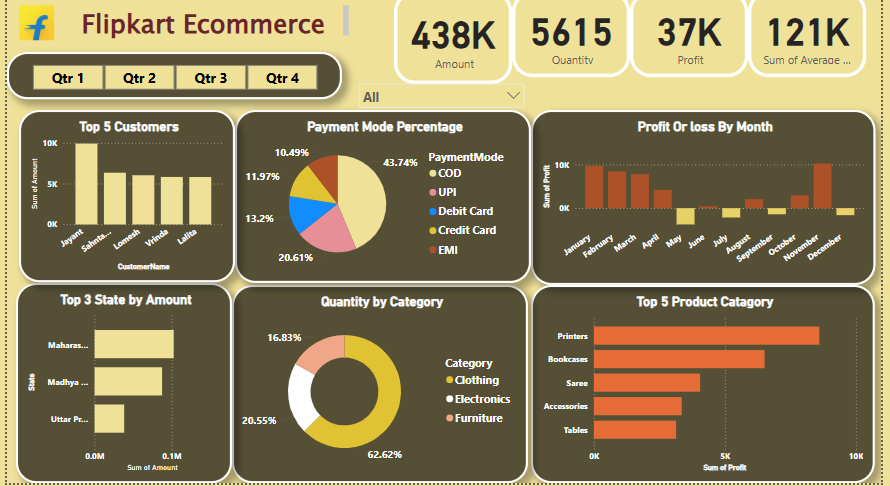

The dashboard page shown, as its layout file describes it:
{"tool":"powerbi","page":{"name":"Page 1","canvas":[1280,720],"ordinal":0},"visuals":[{"type":"textbox","box":[103.9,16.1,401,60],"z":0},{"type":"image","box":[0,16.5,87.4,61.2],"z":1000},{"type":"columnChart","title":"Profit Or loss By Month","fields":{"Category":["Orders (1).Order Date.Variation.Date Hierarchy.Month"],"Y":["Products.Profit"]},"box":[766.7,174.7,504,255.6],"z":2000},{"type":"barChart","title":"Top 5 Product Catagory","fields":{"Category":["Products.Sub-Category"],"Y":["Products.Profit"]},"box":[766.8,430.2,503.4,289.8],"z":3000},{"type":"donutChart","title":" Quantity by Category","fields":{"Category":["Products.Category"],"Y":["Products.Quantity"]},"box":[329.3,430.2,433.2,289.8],"z":4000},{"type":"pieChart","title":" Payment Mode  Percentage","fields":{"Y":["Products.Quantity"],"Category":["Products.PaymentMode"]},"box":[333.3,174.7,433.3,252.5],"z":5000},{"type":"barChart","title":"Top 3 State by Amount","fields":{"Category":["Orders (1).State"],"Y":["Products.Amount"]},"box":[12.5,427.3,316.4,293.2],"z":6000},{"type":"columnChart","title":"Top 5  Customers","fields":{"Y":["Products.Amount"],"Category":["Orders (1).CustomerName"]},"box":[17.2,174.7,316.2,251.5],"z":7000},{"type":"slicer","fields":{"Values":["Orders (1).Order Date.Variation.Date Hierarchy.Quarter"]},"box":[0,89.3,490.3,68.9],"z":8000},{"type":"card","fields":{"Values":["Products.Amount"]},"box":[566.3,0,172.7,136.1],"z":9000},{"type":"card","fields":{"Values":["Products.Quantity"]},"box":[739,0,172.7,125.9],"z":10000},{"type":"card","fields":{"Values":["Products.Profit"]},"box":[911.7,0,172.7,125.9],"z":11000},{"type":"card","fields":{"Values":["Products.Average order value"]},"box":[1084.4,0,172.7,125.9],"z":12000},{"type":"slicer","fields":{"Values":["Orders (1).State"]},"box":[505.1,126.3,261.6,48.5],"z":13000}]}

Visuals, with their boxes in screenshot pixels (x1, y1, x2, y2):
textbox: {"left": 72, "top": 0, "right": 349, "bottom": 39}
image: {"left": 0, "top": 0, "right": 60, "bottom": 40}
"Profit Or loss By Month" columnChart: {"left": 530, "top": 107, "right": 878, "bottom": 283}
"Top 5 Product Catagory" barChart: {"left": 530, "top": 283, "right": 878, "bottom": 484}
" Quantity by Category" donutChart: {"left": 228, "top": 283, "right": 527, "bottom": 484}
" Payment Mode  Percentage" pieChart: {"left": 230, "top": 107, "right": 530, "bottom": 281}
"Top 3 State by Amount" barChart: {"left": 9, "top": 281, "right": 227, "bottom": 484}
"Top 5  Customers" columnChart: {"left": 12, "top": 107, "right": 230, "bottom": 281}
slicer - Orders (1).Order Date.Variation.Date Hierarchy.Quarter: {"left": 0, "top": 48, "right": 339, "bottom": 95}
card - Products.Amount: {"left": 391, "top": 0, "right": 511, "bottom": 80}
card - Products.Quantity: {"left": 511, "top": 0, "right": 630, "bottom": 73}
card - Products.Profit: {"left": 630, "top": 0, "right": 749, "bottom": 73}
card - Products.Average order value: {"left": 749, "top": 0, "right": 869, "bottom": 73}
slicer - Orders (1).State: {"left": 349, "top": 73, "right": 530, "bottom": 107}
